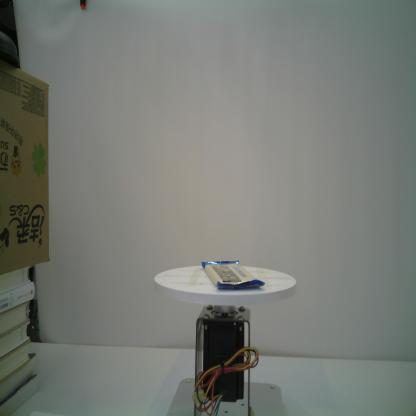Chocolate: (200, 258, 266, 291)
